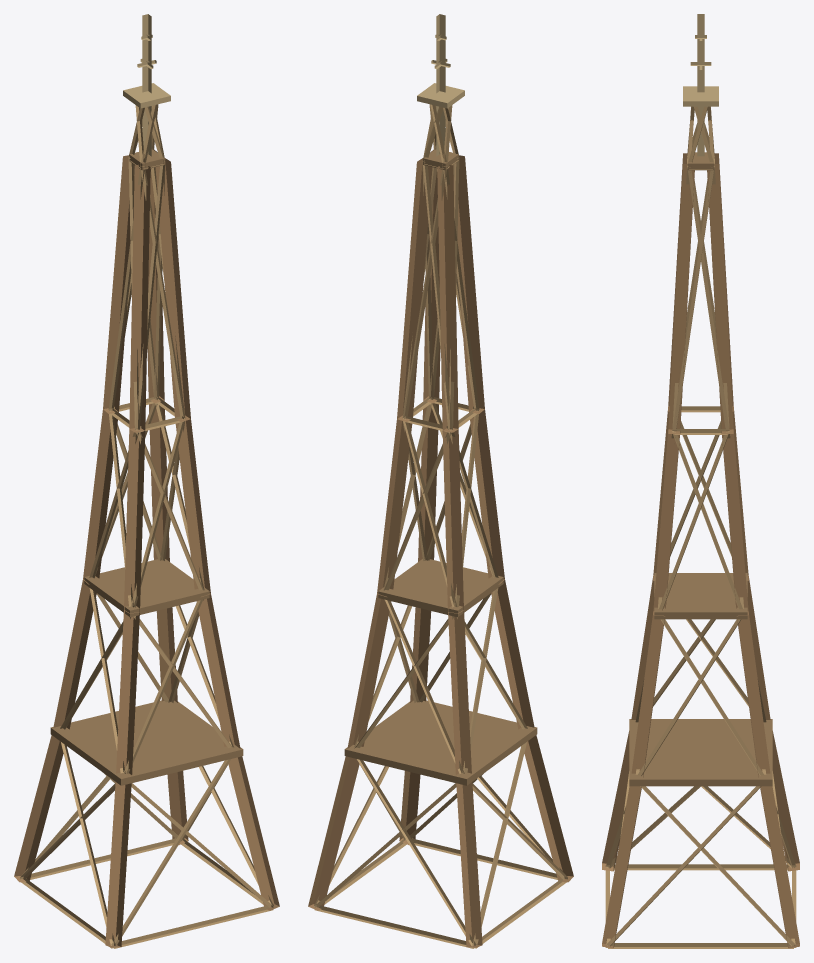
Rendered from eiffel_blockout.glb.
3 renders of one model, left to right at view 1: azimuth 30°, elevation 25°; view 2: azimuth 150°, elevation 25°; view 3: azimuth 270°, elevation 25°, orthographic.
Visible parts, largest first — view 1: E01_Pillars, E02_CrossBracing, E03_Platforms, E07_Antenna; view 2: E01_Pillars, E02_CrossBracing, E03_Platforms, E07_Antenna; view 3: E01_Pillars, E02_CrossBracing, E03_Platforms, E07_Antenna.
Part boxes in pixels (x1,y1,x2,y2): E01_Pillars: (14, 149, 279, 947); E02_CrossBracing: (20, 104, 273, 948); E03_Platforms: (50, 149, 243, 785); E07_Antenna: (123, 14, 170, 156); E01_Pillars: (308, 149, 573, 947); E02_CrossBracing: (314, 104, 567, 948); E03_Platforms: (344, 149, 537, 785); E07_Antenna: (417, 14, 464, 156); E01_Pillars: (602, 153, 799, 948); E02_CrossBracing: (605, 106, 796, 948); E03_Platforms: (629, 152, 772, 786); E07_Antenna: (683, 14, 718, 156).
Size of the model in its own units: 66.55 by 331 by 66.44.
